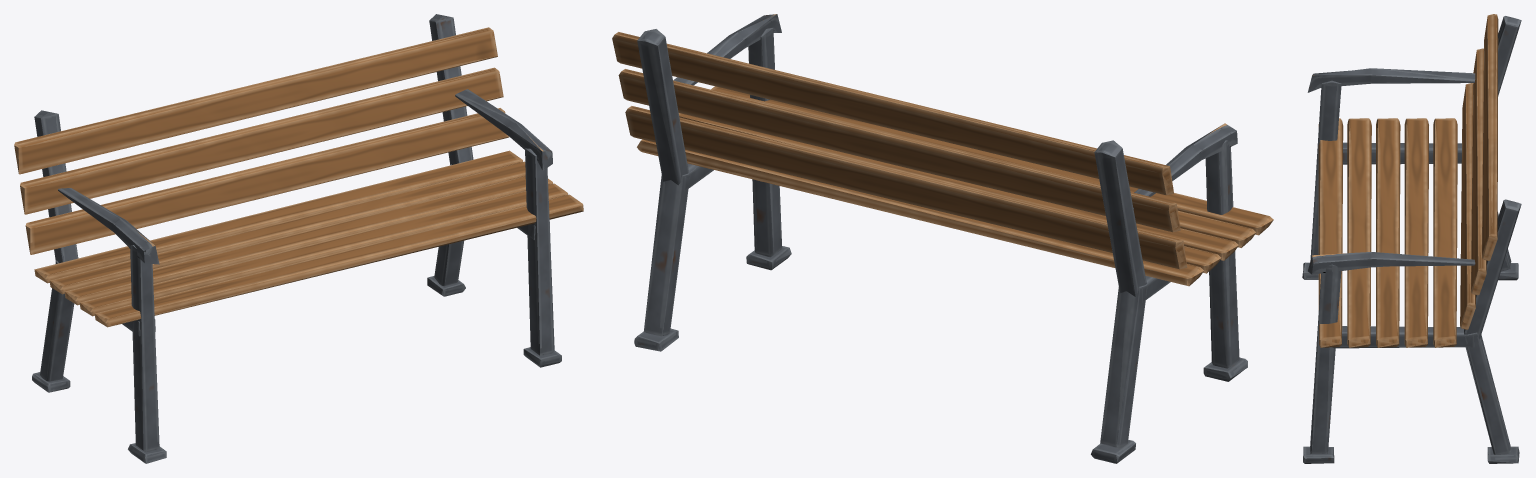
The model's file is park_bench_unreal_LOD1.glb.
The picture shows the model from 3 angles, left to right: view 1: azimuth 30°, elevation 25°; view 2: azimuth 150°, elevation 25°; view 3: azimuth 270°, elevation 25°; orthographic projection. The views are drawn at different scales.
Visible parts, largest first — view 1: park_bench_unreal_static; view 2: park_bench_unreal_static; view 3: park_bench_unreal_static.
Part boxes in pixels (x1,y1,x2,y2): park_bench_unreal_static: [14, 14, 583, 463]; park_bench_unreal_static: [612, 14, 1273, 463]; park_bench_unreal_static: [1302, 14, 1521, 463].
Size of what is drawn, in the model's own units: 1.6 by 0.8692 by 0.6664.
Materials: 2 (2 with a texture image).
